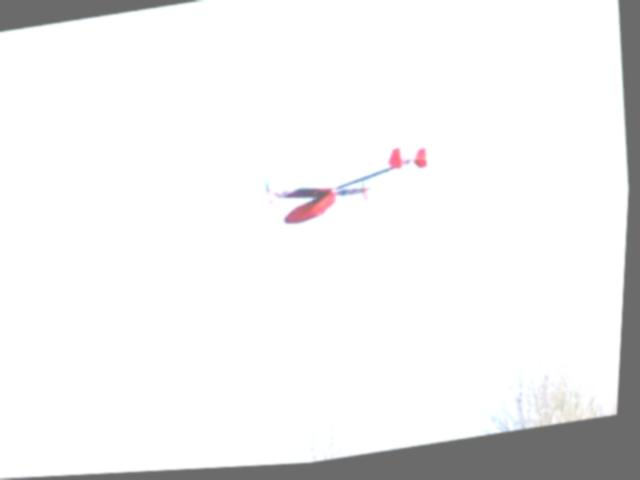uav: (249, 140, 443, 247)
